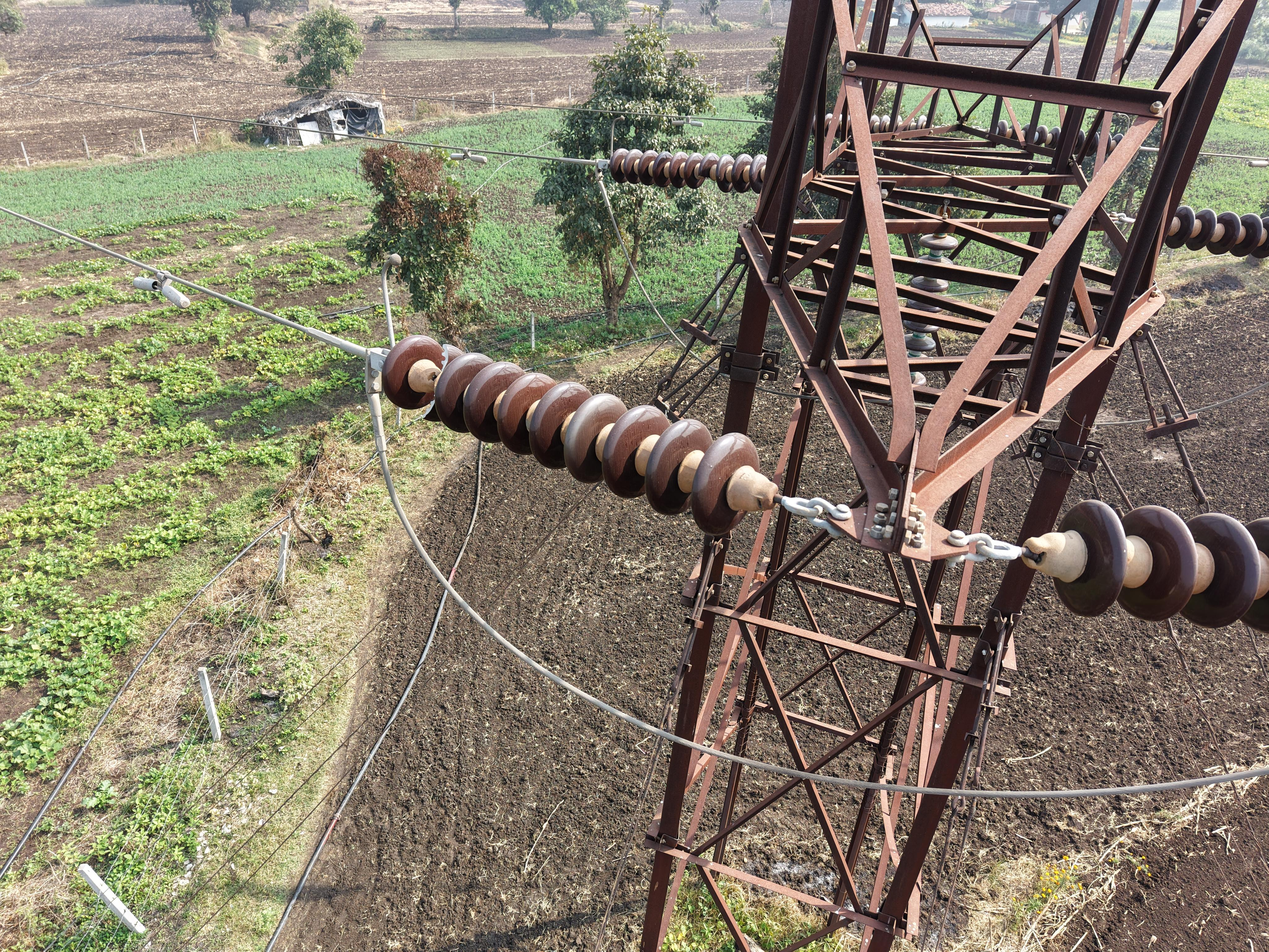broken_insulator: (419, 342, 458, 427), (698, 152, 716, 190)
